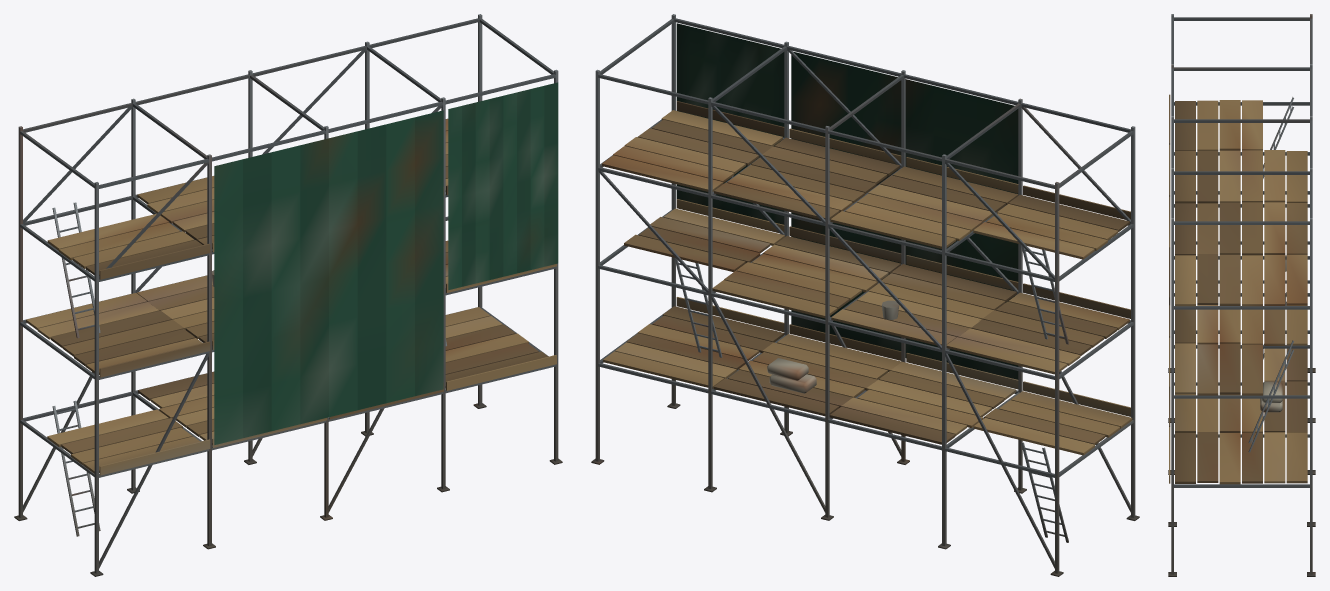
File: scaffold.glb
3 renders of one model, left to right at view 1: azimuth 30°, elevation 25°; view 2: azimuth 150°, elevation 25°; view 3: azimuth 270°, elevation 25°, orthographic. The views are drawn at different scales.
Visible parts, largest first — view 1: Scaffold; view 2: Scaffold; view 3: Scaffold.
Boxes of the visible parts, x1,y1,x2,y2 form: Scaffold: (14, 14, 562, 576); Scaffold: (591, 14, 1139, 576); Scaffold: (1168, 14, 1315, 576).
Bounding box in the file's own units: 10 × 8 × 3.
